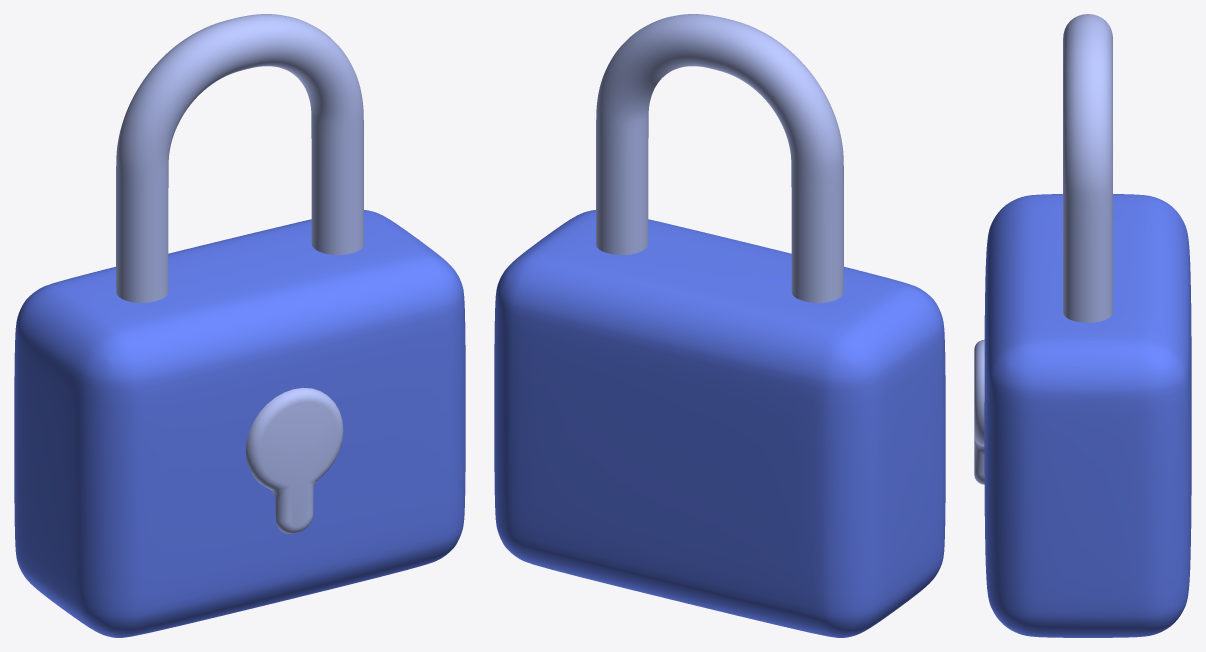
File: modelLock.glb
3 renders of one model, left to right at view 1: azimuth 30°, elevation 25°; view 2: azimuth 150°, elevation 25°; view 3: azimuth 270°, elevation 25°, orthographic. The views are drawn at different scales.
Visible parts, largest first — view 1: Cube, Vert, Cylinder; view 2: Cube, Vert; view 3: Cube, Vert, Cylinder.
Part boxes in pixels (left/top/right/bottom): Cube: left=14, top=210, right=465, bottom=637; Vert: left=116, top=14, right=363, bottom=302; Cylinder: left=245, top=387, right=343, bottom=533; Cube: left=494, top=210, right=945, bottom=637; Vert: left=596, top=14, right=843, bottom=302; Cube: left=984, top=194, right=1191, bottom=637; Vert: left=1063, top=14, right=1112, bottom=322; Cylinder: left=974, top=339, right=984, bottom=484.
Size of the model in its own units: 1.86 by 2.57 by 0.9442.
